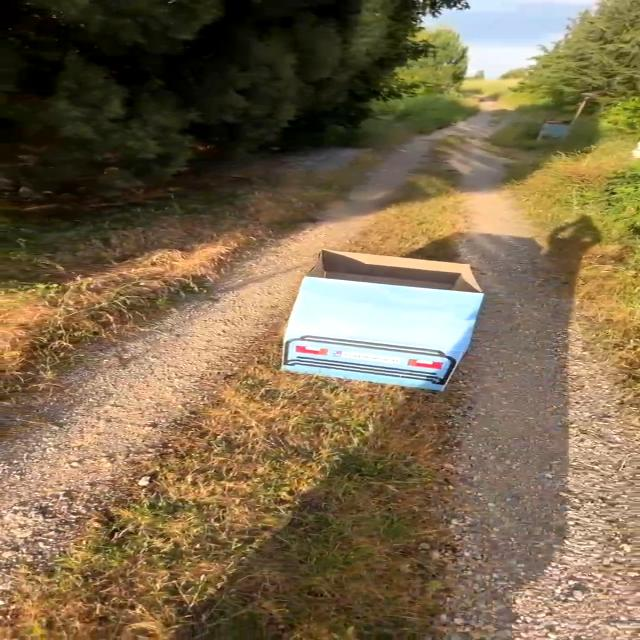blue_car: (206, 228, 535, 403)
